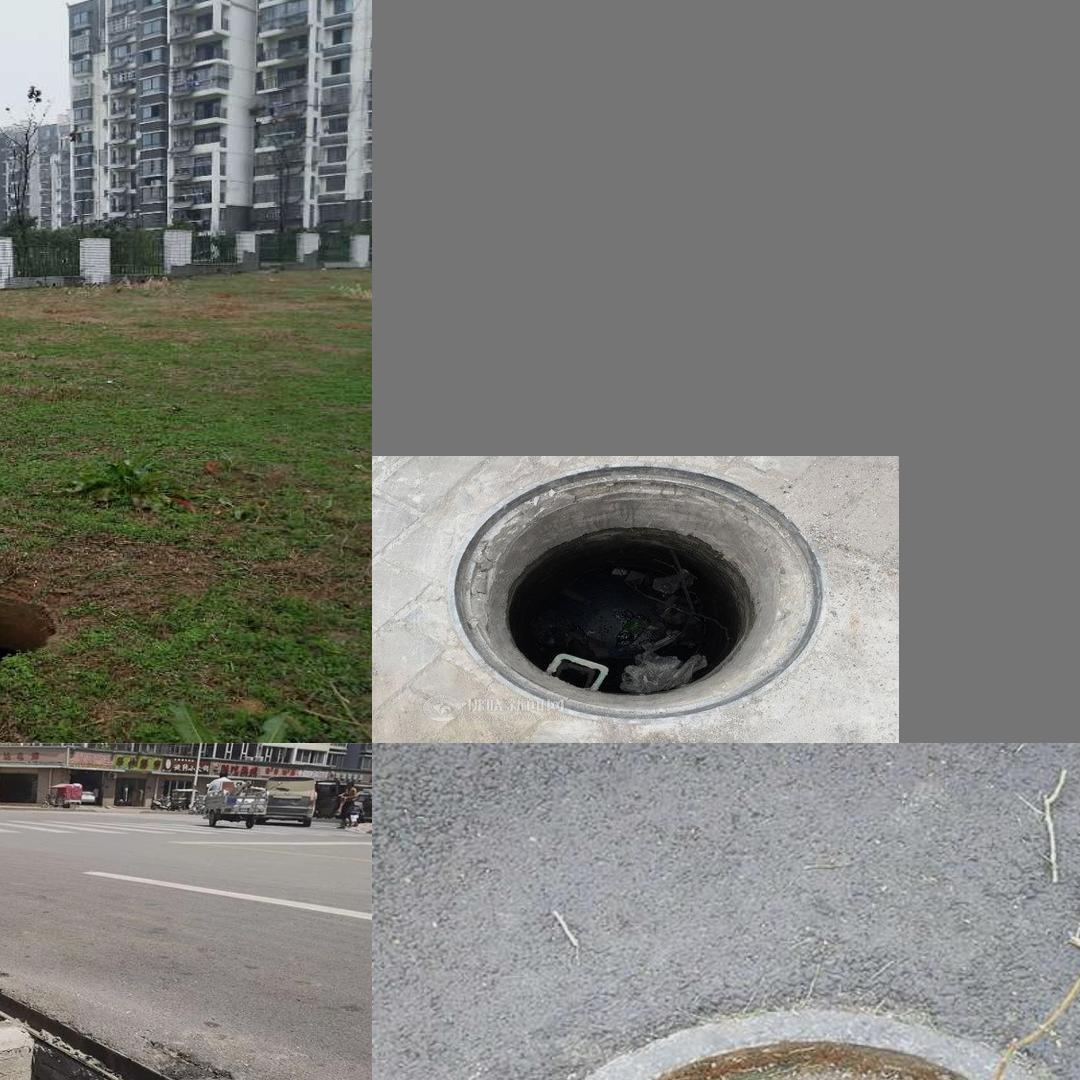lose: (446, 460, 831, 719), (446, 1007, 1080, 1080), (0, 937, 291, 1080), (0, 585, 60, 673)
